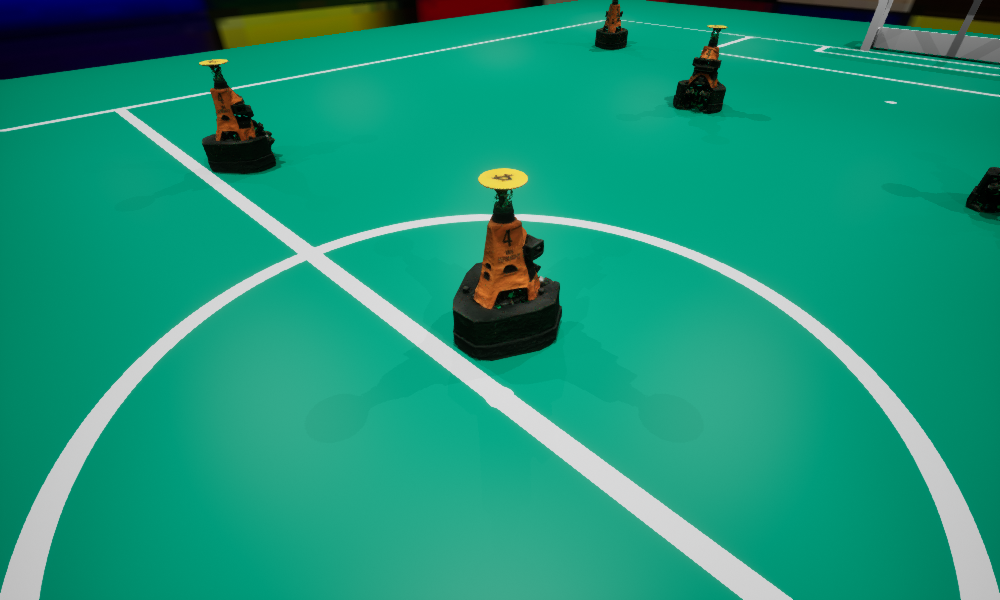o: (453, 168, 561, 360), (199, 59, 275, 173), (673, 25, 727, 112), (595, 0, 627, 49), (966, 167, 999, 212)
